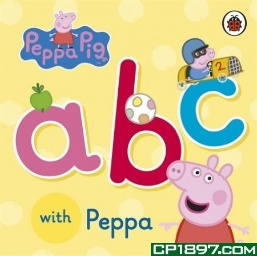Peppa: (166, 153, 238, 244)
